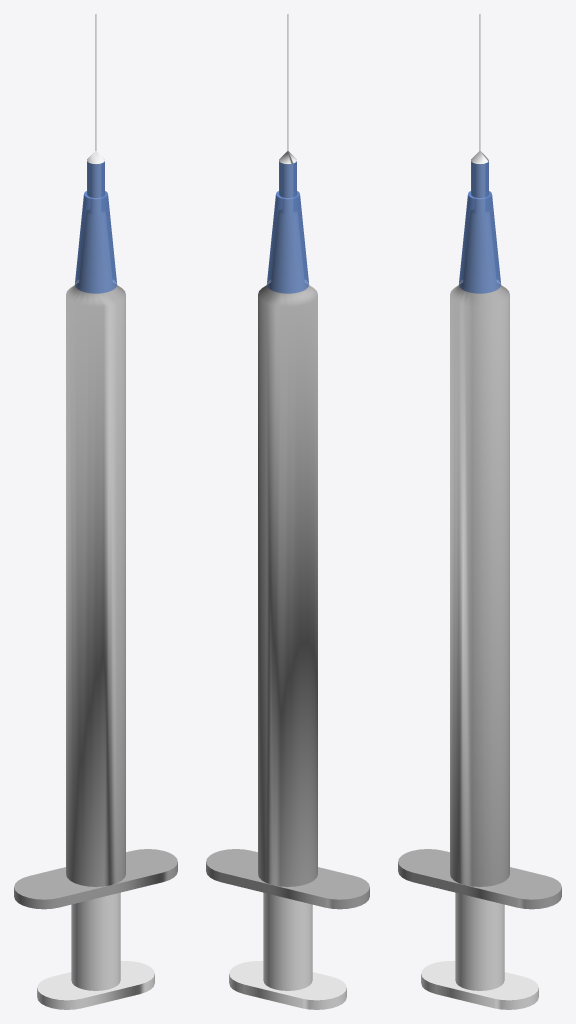
File: Syringe.fbx
The picture shows the model from 3 angles, left to right: view 1: azimuth 30°, elevation 25°; view 2: azimuth 150°, elevation 25°; view 3: azimuth 330°, elevation 25°; orthographic projection.
Visible parts, largest first — view 1: Group9, Group2, Group4; view 2: Group9, Group2, Group4; view 3: Group9, Group2, Group4.
Boxes of the visible parts, left/top/right/bottom form: Group9: left=14, top=164, right=177, bottom=909; Group2: left=37, top=892, right=154, bottom=1009; Group4: left=74, top=161, right=117, bottom=293; Group9: left=206, top=164, right=369, bottom=909; Group2: left=229, top=892, right=346, bottom=1009; Group4: left=266, top=161, right=309, bottom=293; Group9: left=398, top=164, right=561, bottom=909; Group2: left=421, top=892, right=538, bottom=1009; Group4: left=458, top=161, right=501, bottom=293.
Bounding box in the file's own units: 1.69 × 10.1 × 0.5625.
